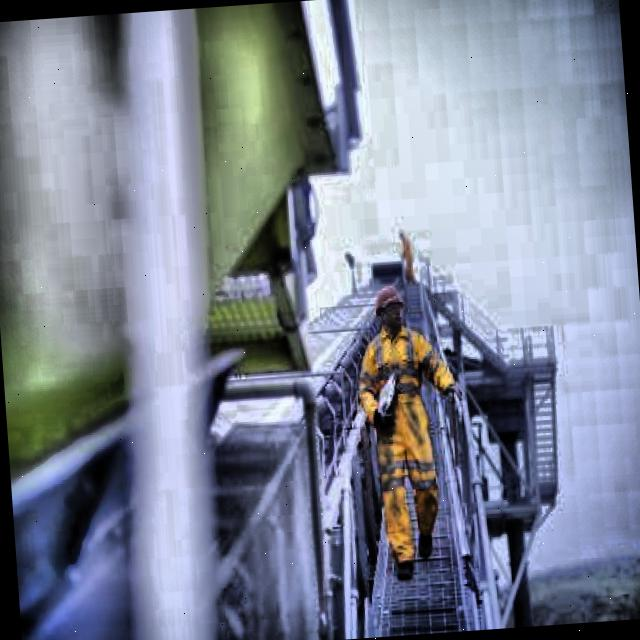helmet: (371, 282, 409, 335)
